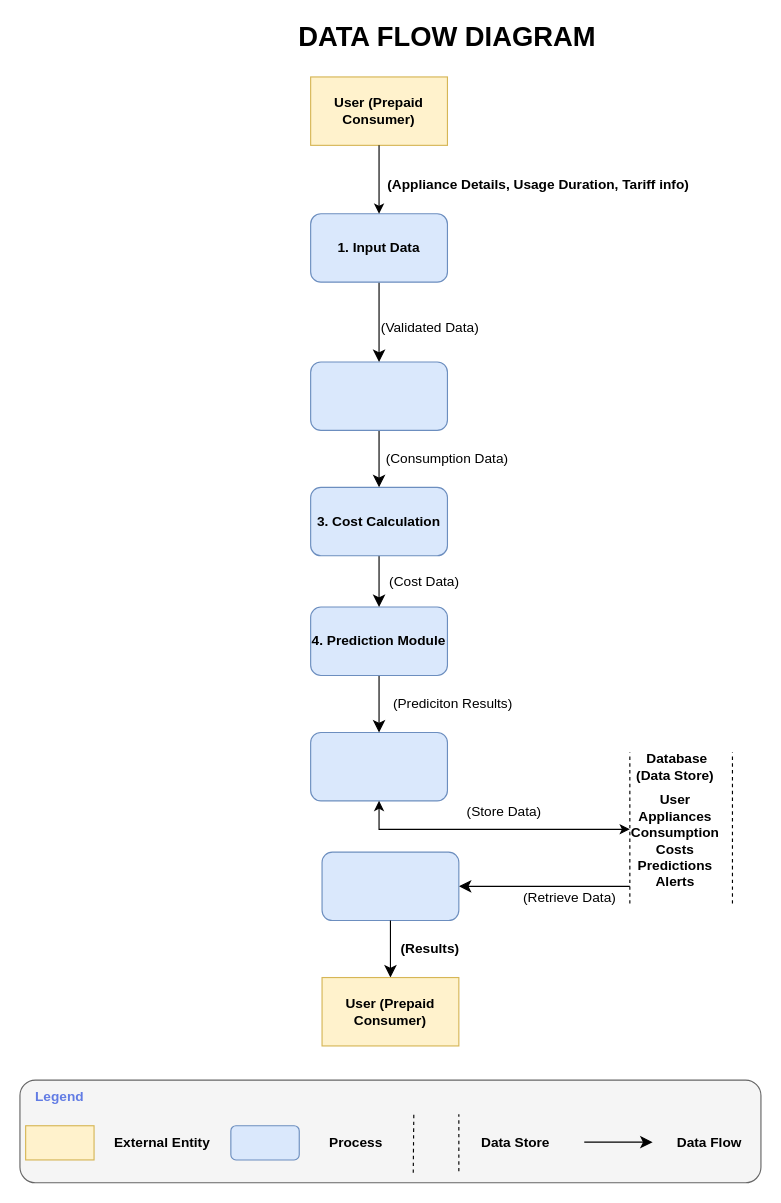
Image size: 781x1203. Some labels were removed from this diagram. Each missing label, with the centre of its shape:
"2. Consumption & Appliance Analysis" belongs at point (378, 395).
"5. Store/ Retrieve Data" belongs at point (378, 766).
"6. Display Results" belongs at point (390, 886).
